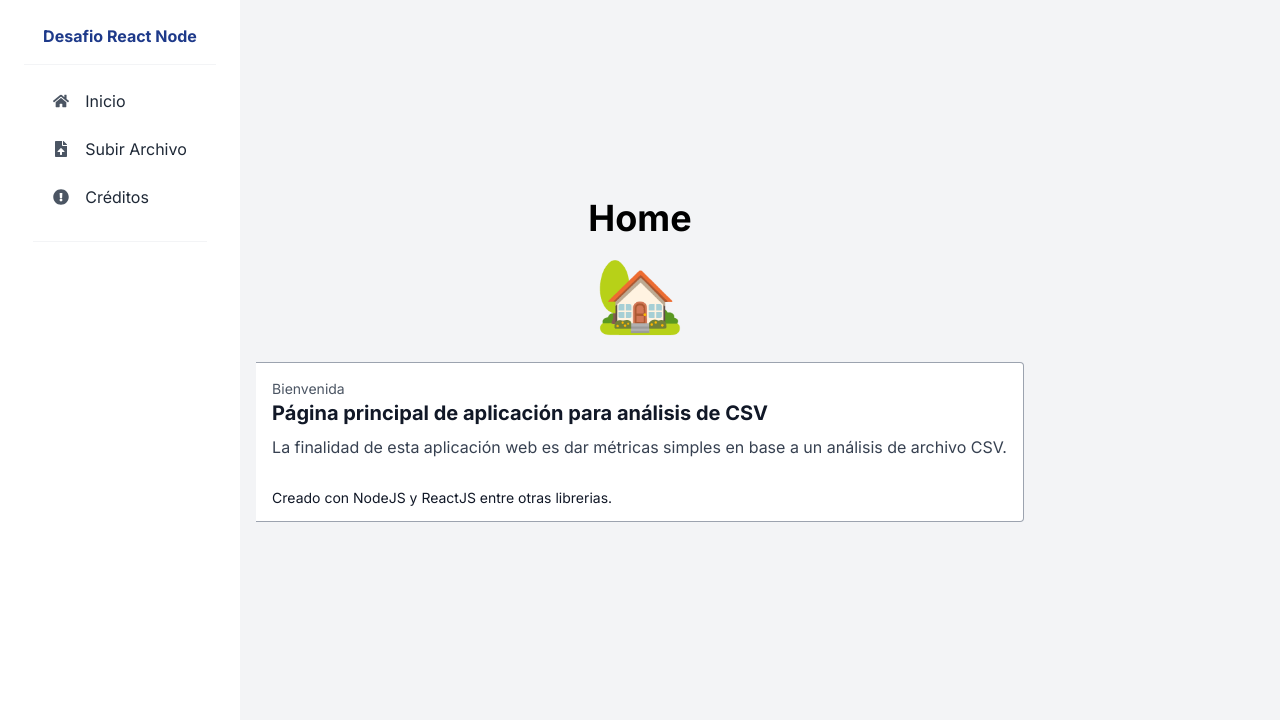
Test: Archivo › Navegar a Archivo
The image size is (1280, 720).
Note: Find a link with an href attribute containing "about" and click it
Click the link "Subir Archivo" at (120, 149), box x1=53 y1=139 x2=187 y2=159
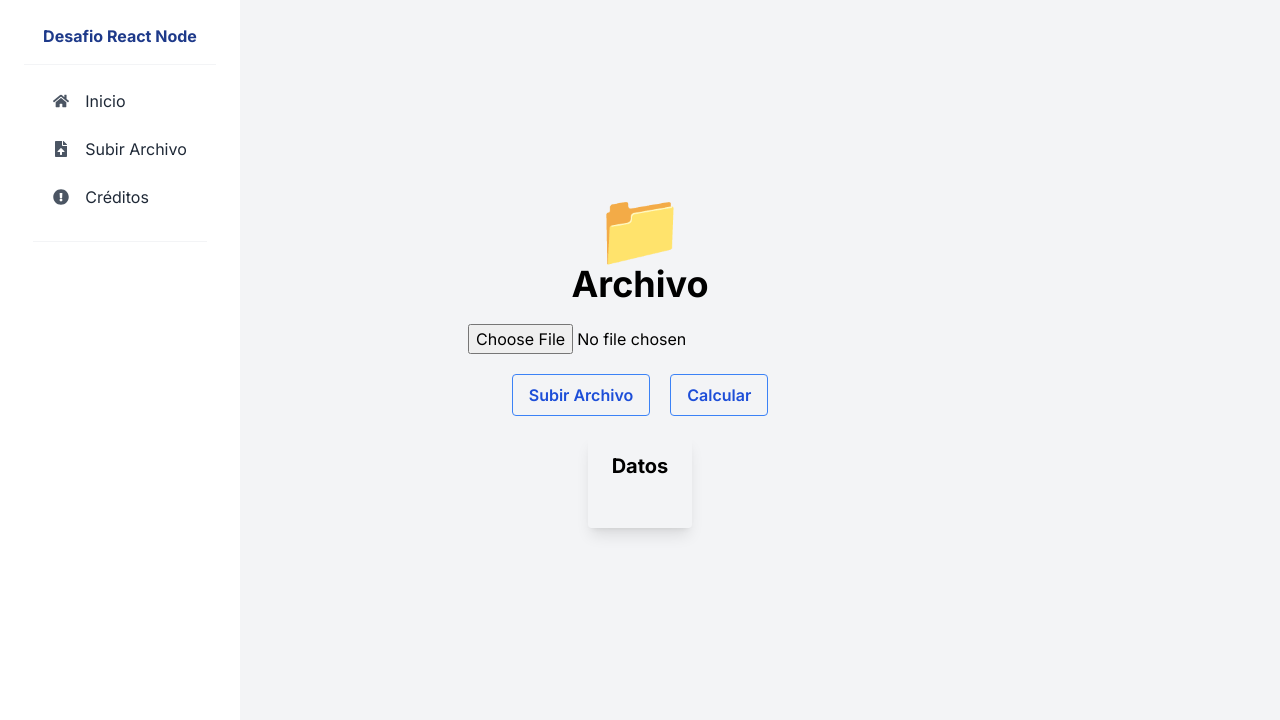
Expected: the heading "Archivo" is shown, x1=572 y1=264 x2=708 y2=304
